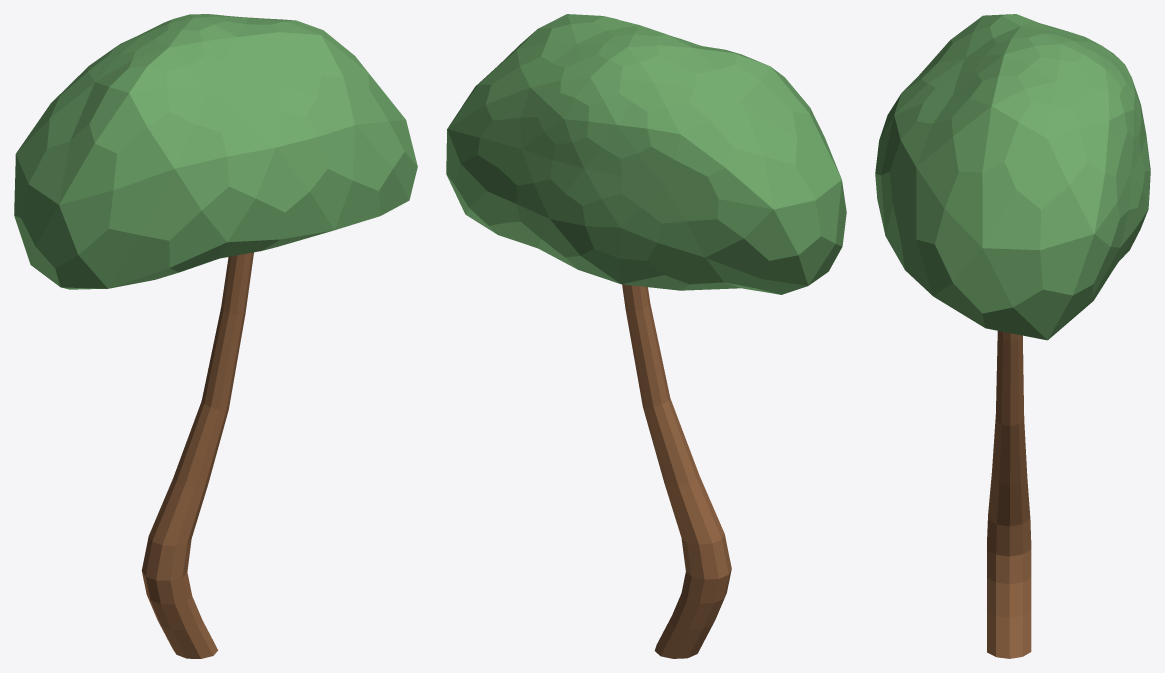
File: Tree1.glb
3 renders of one model, left to right at view 1: azimuth 30°, elevation 25°; view 2: azimuth 150°, elevation 25°; view 3: azimuth 270°, elevation 25°, orthographic.
Parts seen in each view (by area): view 1: Tree1; view 2: Tree1; view 3: Tree1.
Part boxes in pixels (bbox=[...]): Tree1: bbox=[14, 14, 417, 658]; Tree1: bbox=[446, 14, 846, 658]; Tree1: bbox=[875, 14, 1150, 658].
Size of the model in its own units: 3.3 by 5.31 by 2.14.
